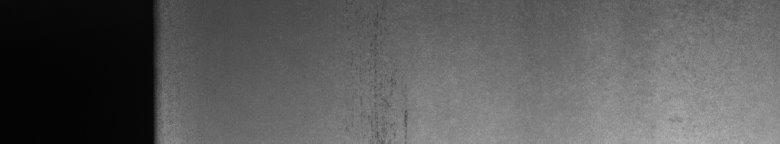ka: (356, 13, 408, 136)
